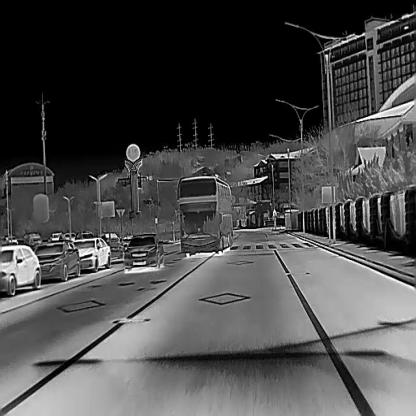bus: (176, 174, 234, 257)
car: (0, 242, 42, 295), (33, 239, 80, 281), (122, 232, 164, 272), (71, 236, 110, 272)
